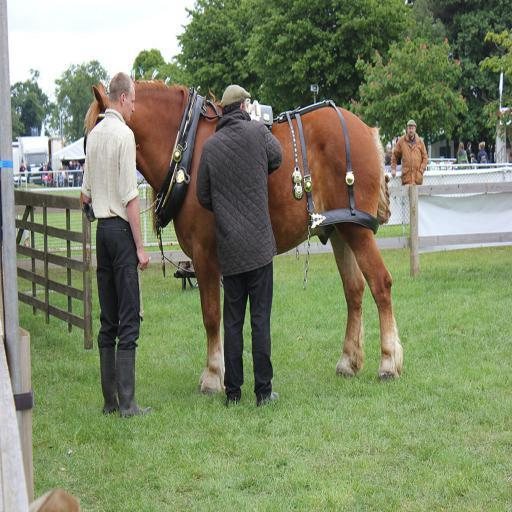horse: (82, 79, 403, 395)
